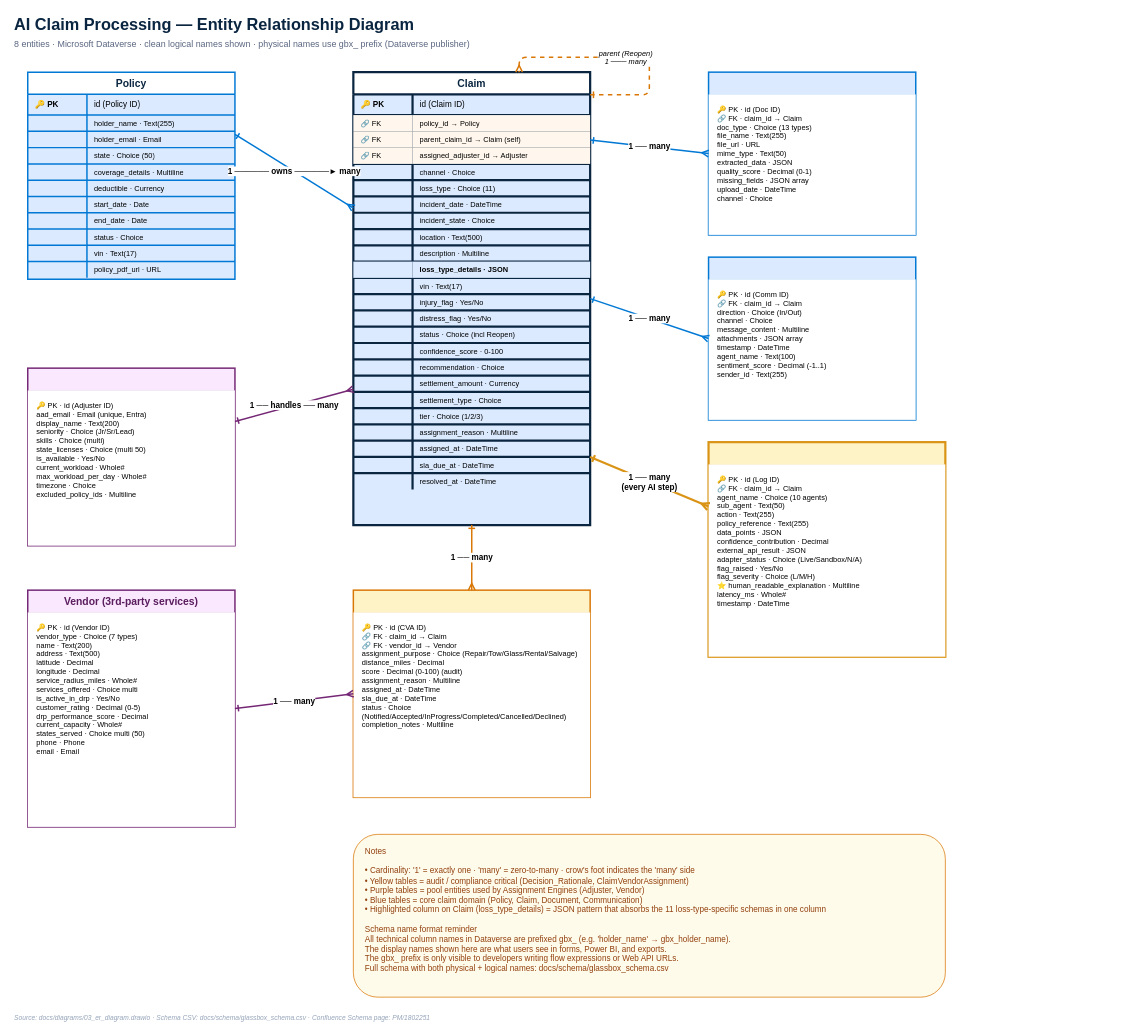
Some shapes in this 1135 by 1036 pixel diagram are drawn without their labels. The box of each missing label's shape, as (x1, y1, x2, y2) in pixels:
Adjuster (handler pool): (27, 367, 235, 546)
ClaimVendorAssignment (join): (352, 589, 591, 798)
Communication: (707, 256, 916, 420)
Decision_Rationale ⭐ audit log: (707, 441, 946, 657)
Document: (707, 71, 916, 235)
